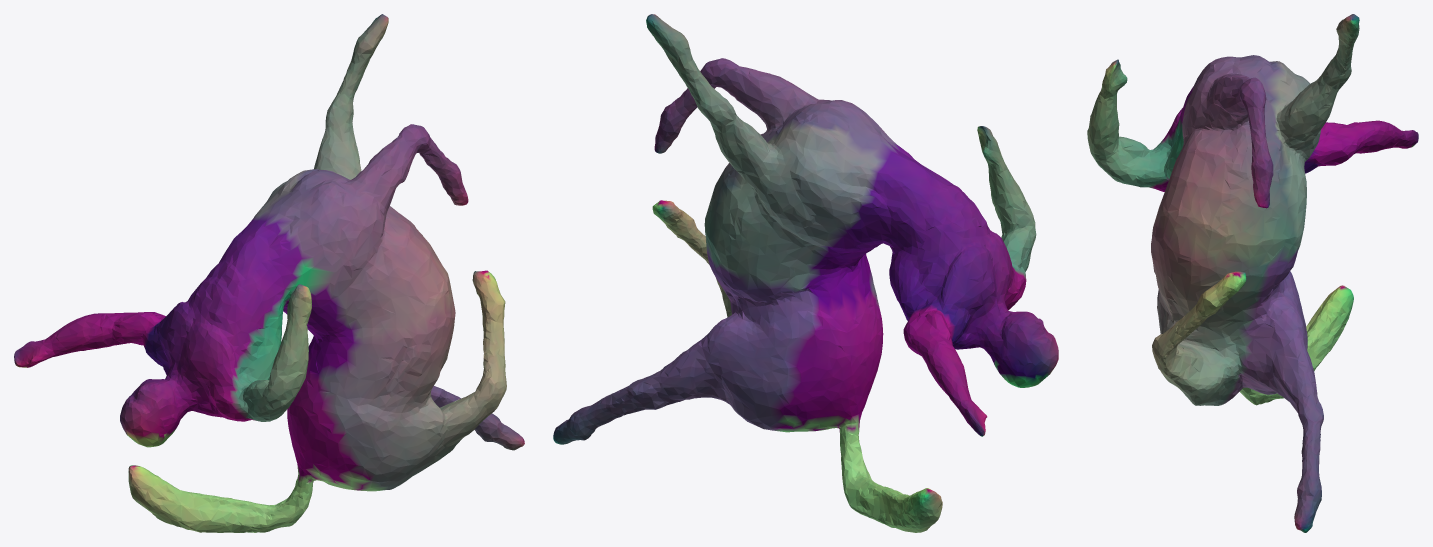
File: centaur-17.off.obj
3 views of the same model, side by side, from view 1: azimuth 30°, elevation 25°; view 2: azimuth 150°, elevation 25°; view 3: azimuth 270°, elevation 25° (orthographic). The views are drawn at different scales.
Bounding box in the file's own units: 1.34 × 1.27 × 0.815.
